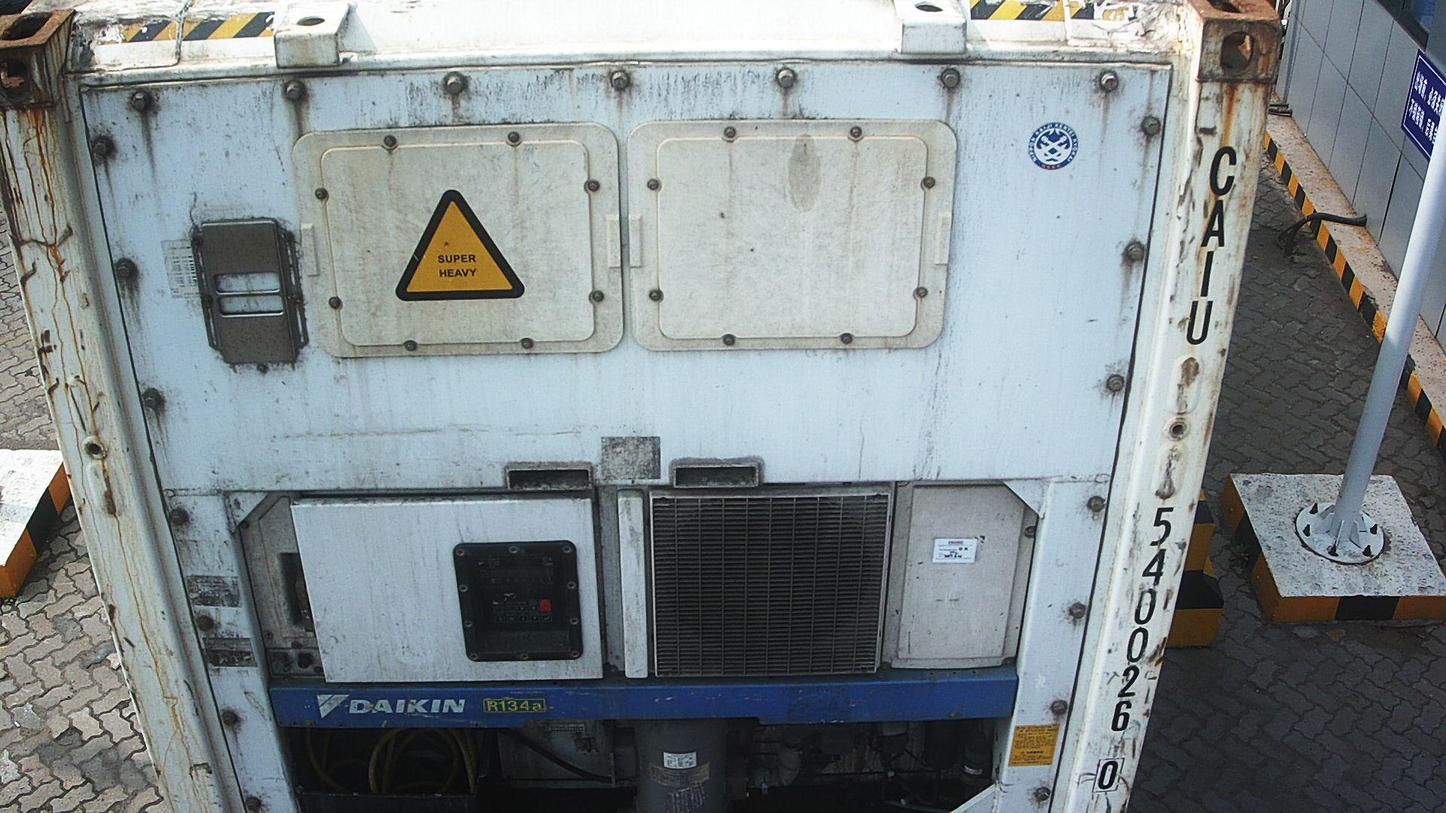container-numbers: (1086, 501, 1179, 799), (1177, 141, 1243, 350)
